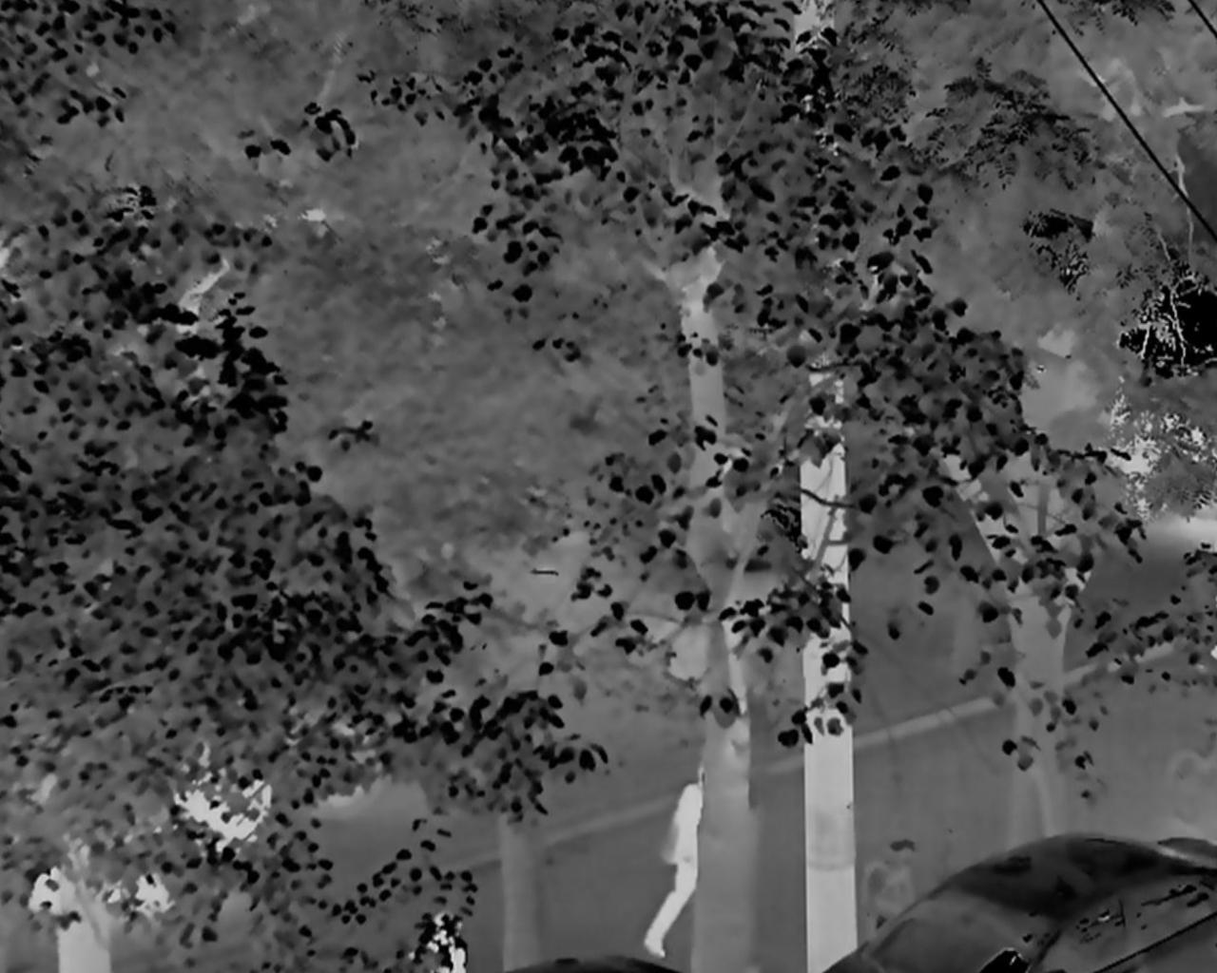person: (644, 760, 705, 957)
